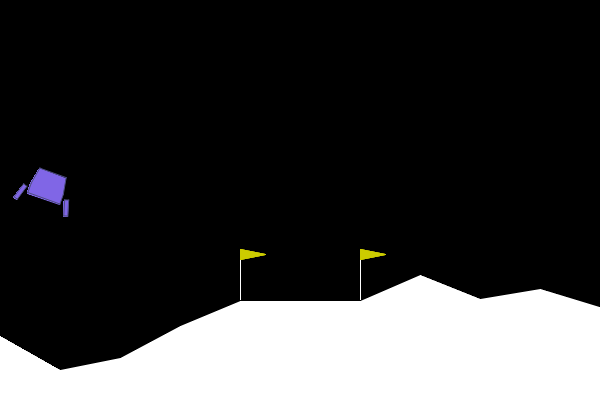lander: (11, 161, 81, 219)
